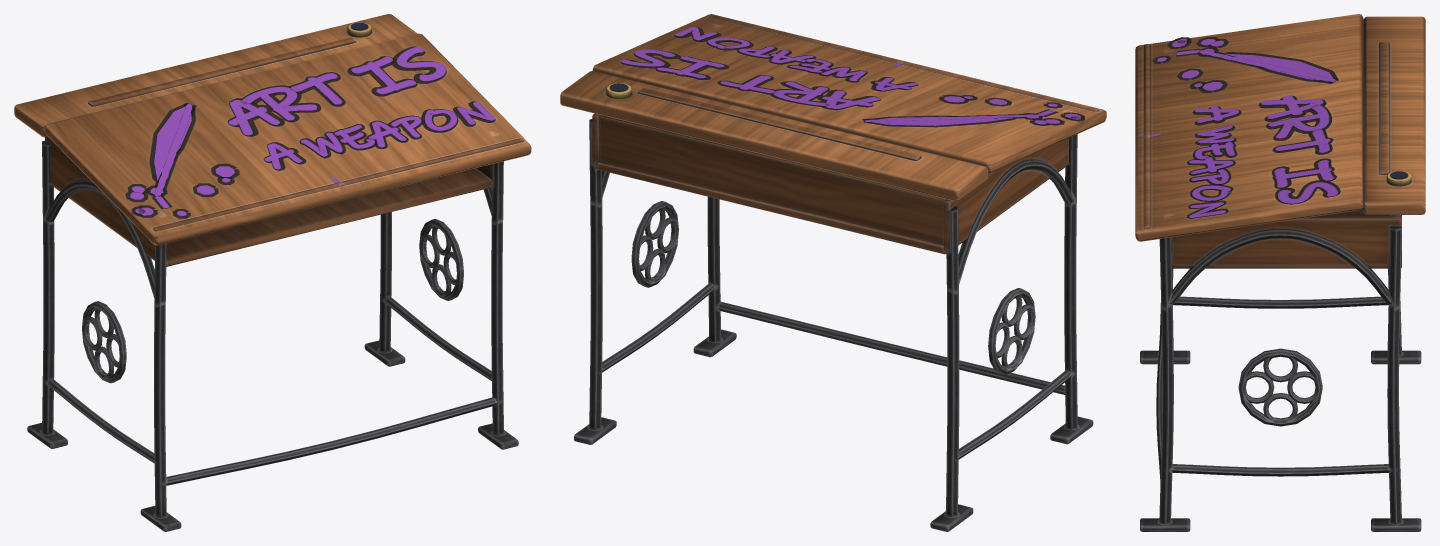
The model's file is StudentDeskPrankInk.fbx.
The picture shows the model from 3 angles, left to right: view 1: azimuth 30°, elevation 25°; view 2: azimuth 150°, elevation 25°; view 3: azimuth 270°, elevation 25°; orthographic projection. The views are drawn at different scales.
Visible parts, largest first — view 1: StudentDeskPrankInk; view 2: StudentDeskPrankInk; view 3: StudentDeskPrankInk.
Boxes of the visible parts, x1,y1,x2,y2 form: StudentDeskPrankInk: [14, 14, 531, 531]; StudentDeskPrankInk: [560, 14, 1106, 531]; StudentDeskPrankInk: [1135, 14, 1425, 531].
Bounding box in the file's own units: 300 × 255 × 196.
